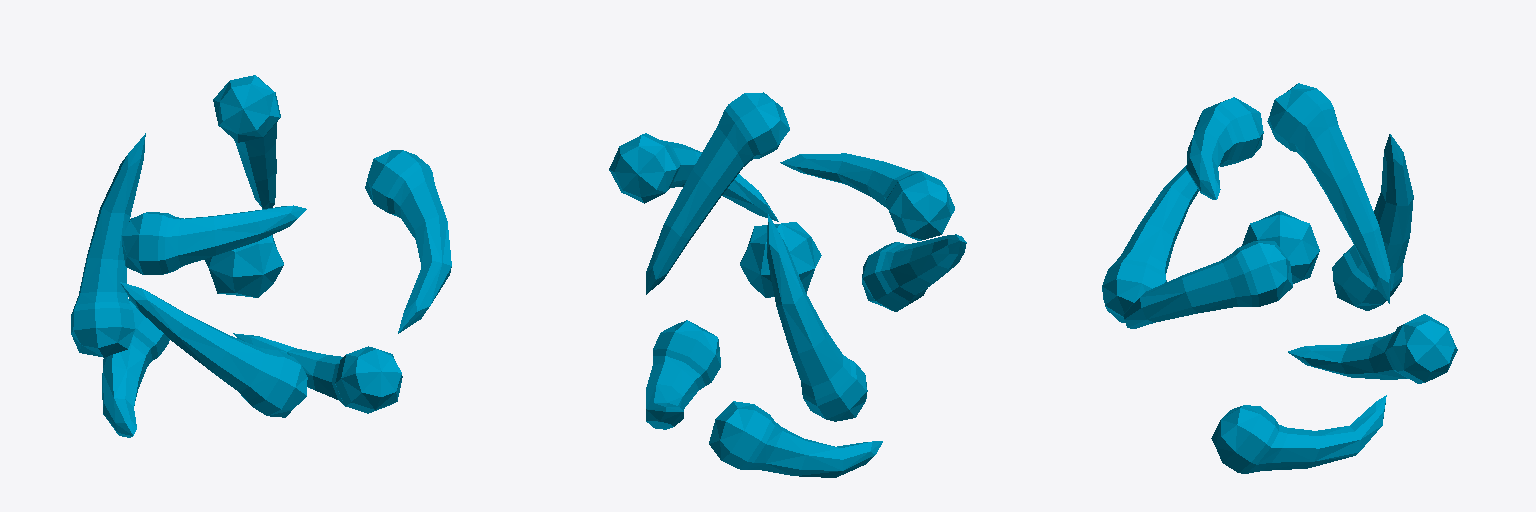
File: energy-star-7.obj
3 renders of one model, left to right at view 1: azimuth 30°, elevation 25°; view 2: azimuth 150°, elevation 25°; view 3: azimuth 270°, elevation 25°, orthographic.
Visible parts, largest first — view 1: EnergyStar; view 2: EnergyStar; view 3: EnergyStar.
Boxes of the visible parts, x1=… form: EnergyStar: x1=71, y1=75, x2=451, y2=437; EnergyStar: x1=609, y1=92, x2=966, y2=477; EnergyStar: x1=1102, y1=83, x2=1457, y2=473.
Size of the model in its own units: 2.04 by 2.01 by 1.92.